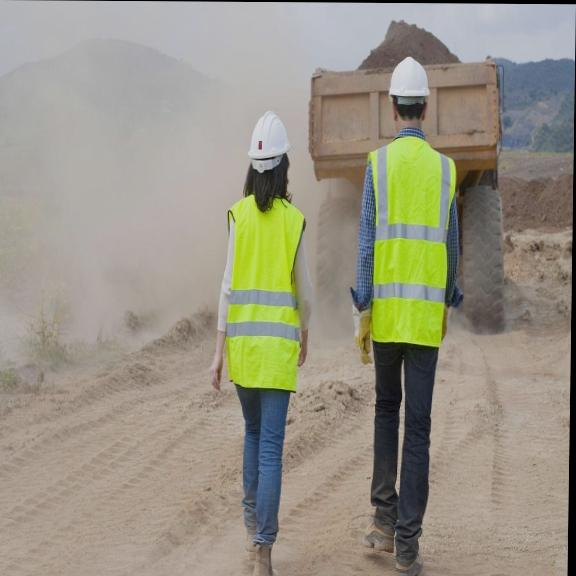safety_vest: (355, 134, 461, 349), (207, 192, 318, 396)
